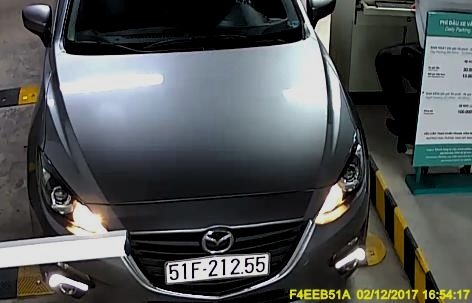plate: (164, 253, 270, 280)
